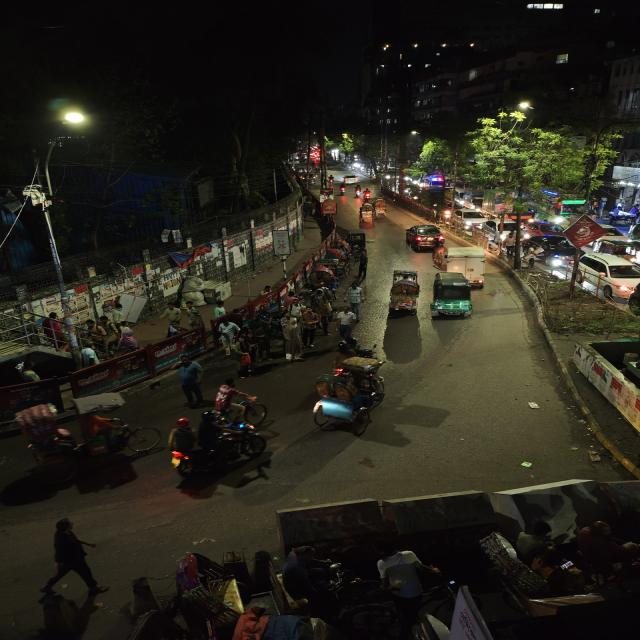bicycle: (430, 241, 451, 270)
car: (574, 254, 640, 298), (518, 234, 584, 270), (582, 235, 640, 265), (404, 223, 446, 254), (476, 220, 527, 244), (448, 208, 491, 230), (341, 173, 360, 185)
cng: (429, 274, 476, 322), (371, 199, 390, 219), (358, 202, 376, 220)
motorcycle: (362, 188, 372, 204), (352, 185, 363, 199), (337, 184, 348, 198)
pedestrian: (29, 516, 114, 606), (212, 377, 264, 433), (169, 358, 208, 408), (166, 420, 199, 474), (86, 316, 126, 356), (211, 316, 243, 358), (245, 317, 274, 363), (167, 302, 202, 338), (41, 310, 70, 352), (279, 315, 304, 361), (311, 285, 336, 331), (299, 307, 322, 347), (334, 306, 357, 340), (232, 348, 257, 378), (343, 283, 367, 310)
rickshaw: (306, 348, 396, 436), (385, 273, 422, 319)
truck: (449, 248, 487, 284)
